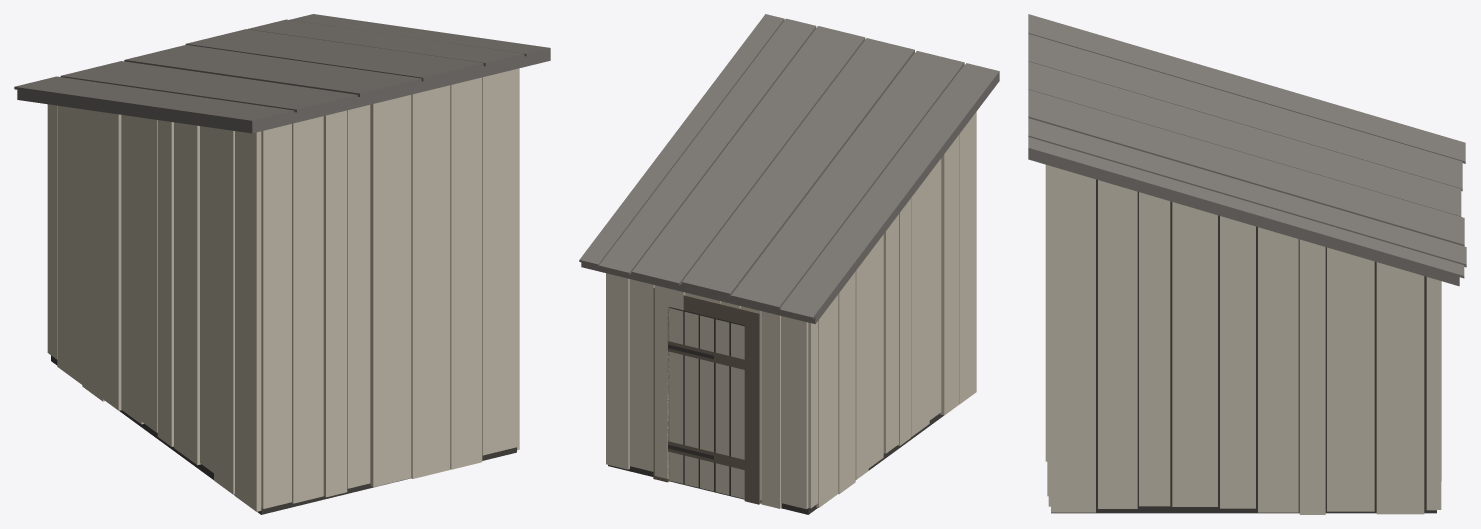
Rendered from recon_1835_blk_washington_clark_a5_16__inferred_1835.glb.
3 views of the same model, side by side, from view 1: azimuth 30°, elevation 25°; view 2: azimuth 150°, elevation 25°; view 3: azimuth 270°, elevation 25° (orthographic). The views are drawn at different scales.
Visible parts, largest first — view 1: recon_1835_blk_washington_clark_a5_16__inferred_1835; view 2: recon_1835_blk_washington_clark_a5_16__inferred_1835; view 3: recon_1835_blk_washington_clark_a5_16__inferred_1835.
Boxes of the visible parts, box(x1,y1,x2,y2) form: recon_1835_blk_washington_clark_a5_16__inferred_1835: box(14, 14, 550, 514); recon_1835_blk_washington_clark_a5_16__inferred_1835: box(579, 14, 999, 514); recon_1835_blk_washington_clark_a5_16__inferred_1835: box(1028, 14, 1466, 514).
Size of the model in its own units: 2.62 by 3.43 by 3.62.
